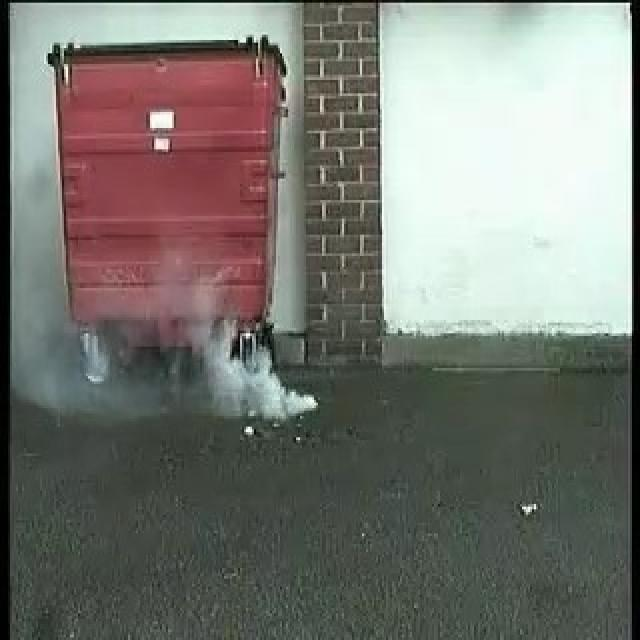smoke: (178, 270, 316, 416)
